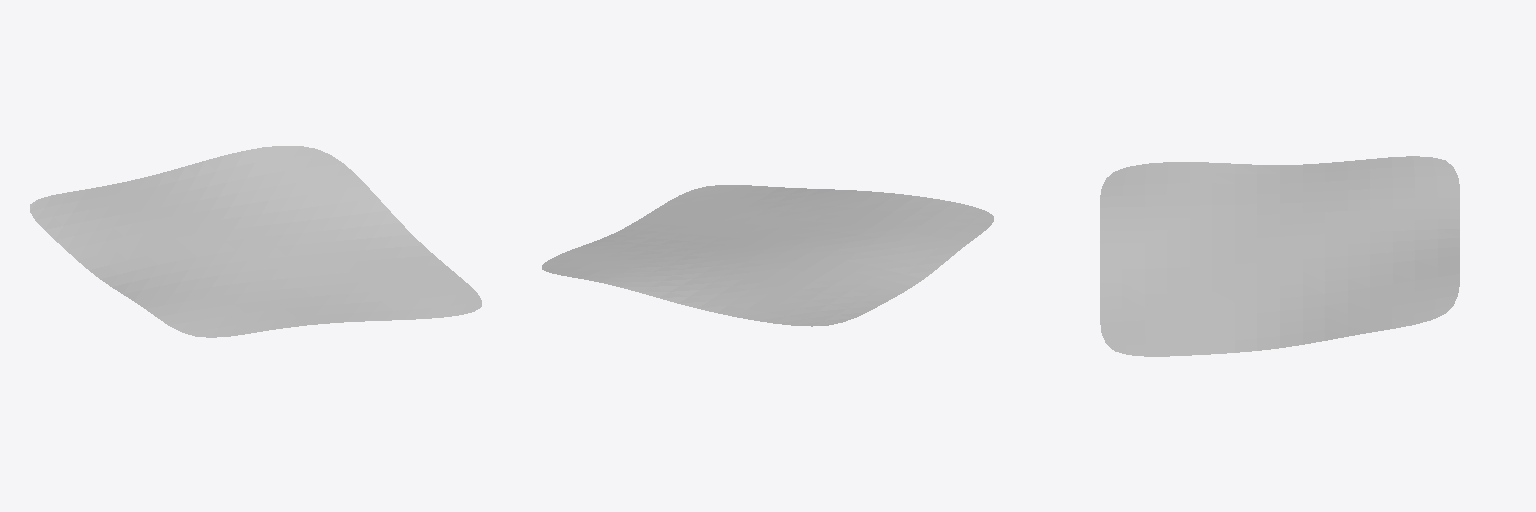
The model's file is terrain.obj.
3 views of the same model, side by side, from view 1: azimuth 30°, elevation 25°; view 2: azimuth 150°, elevation 25°; view 3: azimuth 270°, elevation 25° (orthographic).
Visible parts, largest first — view 1: Plane; view 2: Plane; view 3: Plane.
Part boxes in pixels (x1,y1,x2,y2): Plane: (30, 146, 481, 337); Plane: (542, 185, 993, 326); Plane: (1100, 156, 1459, 356).
Size of the model in its own units: 2 by 0.3165 by 2.